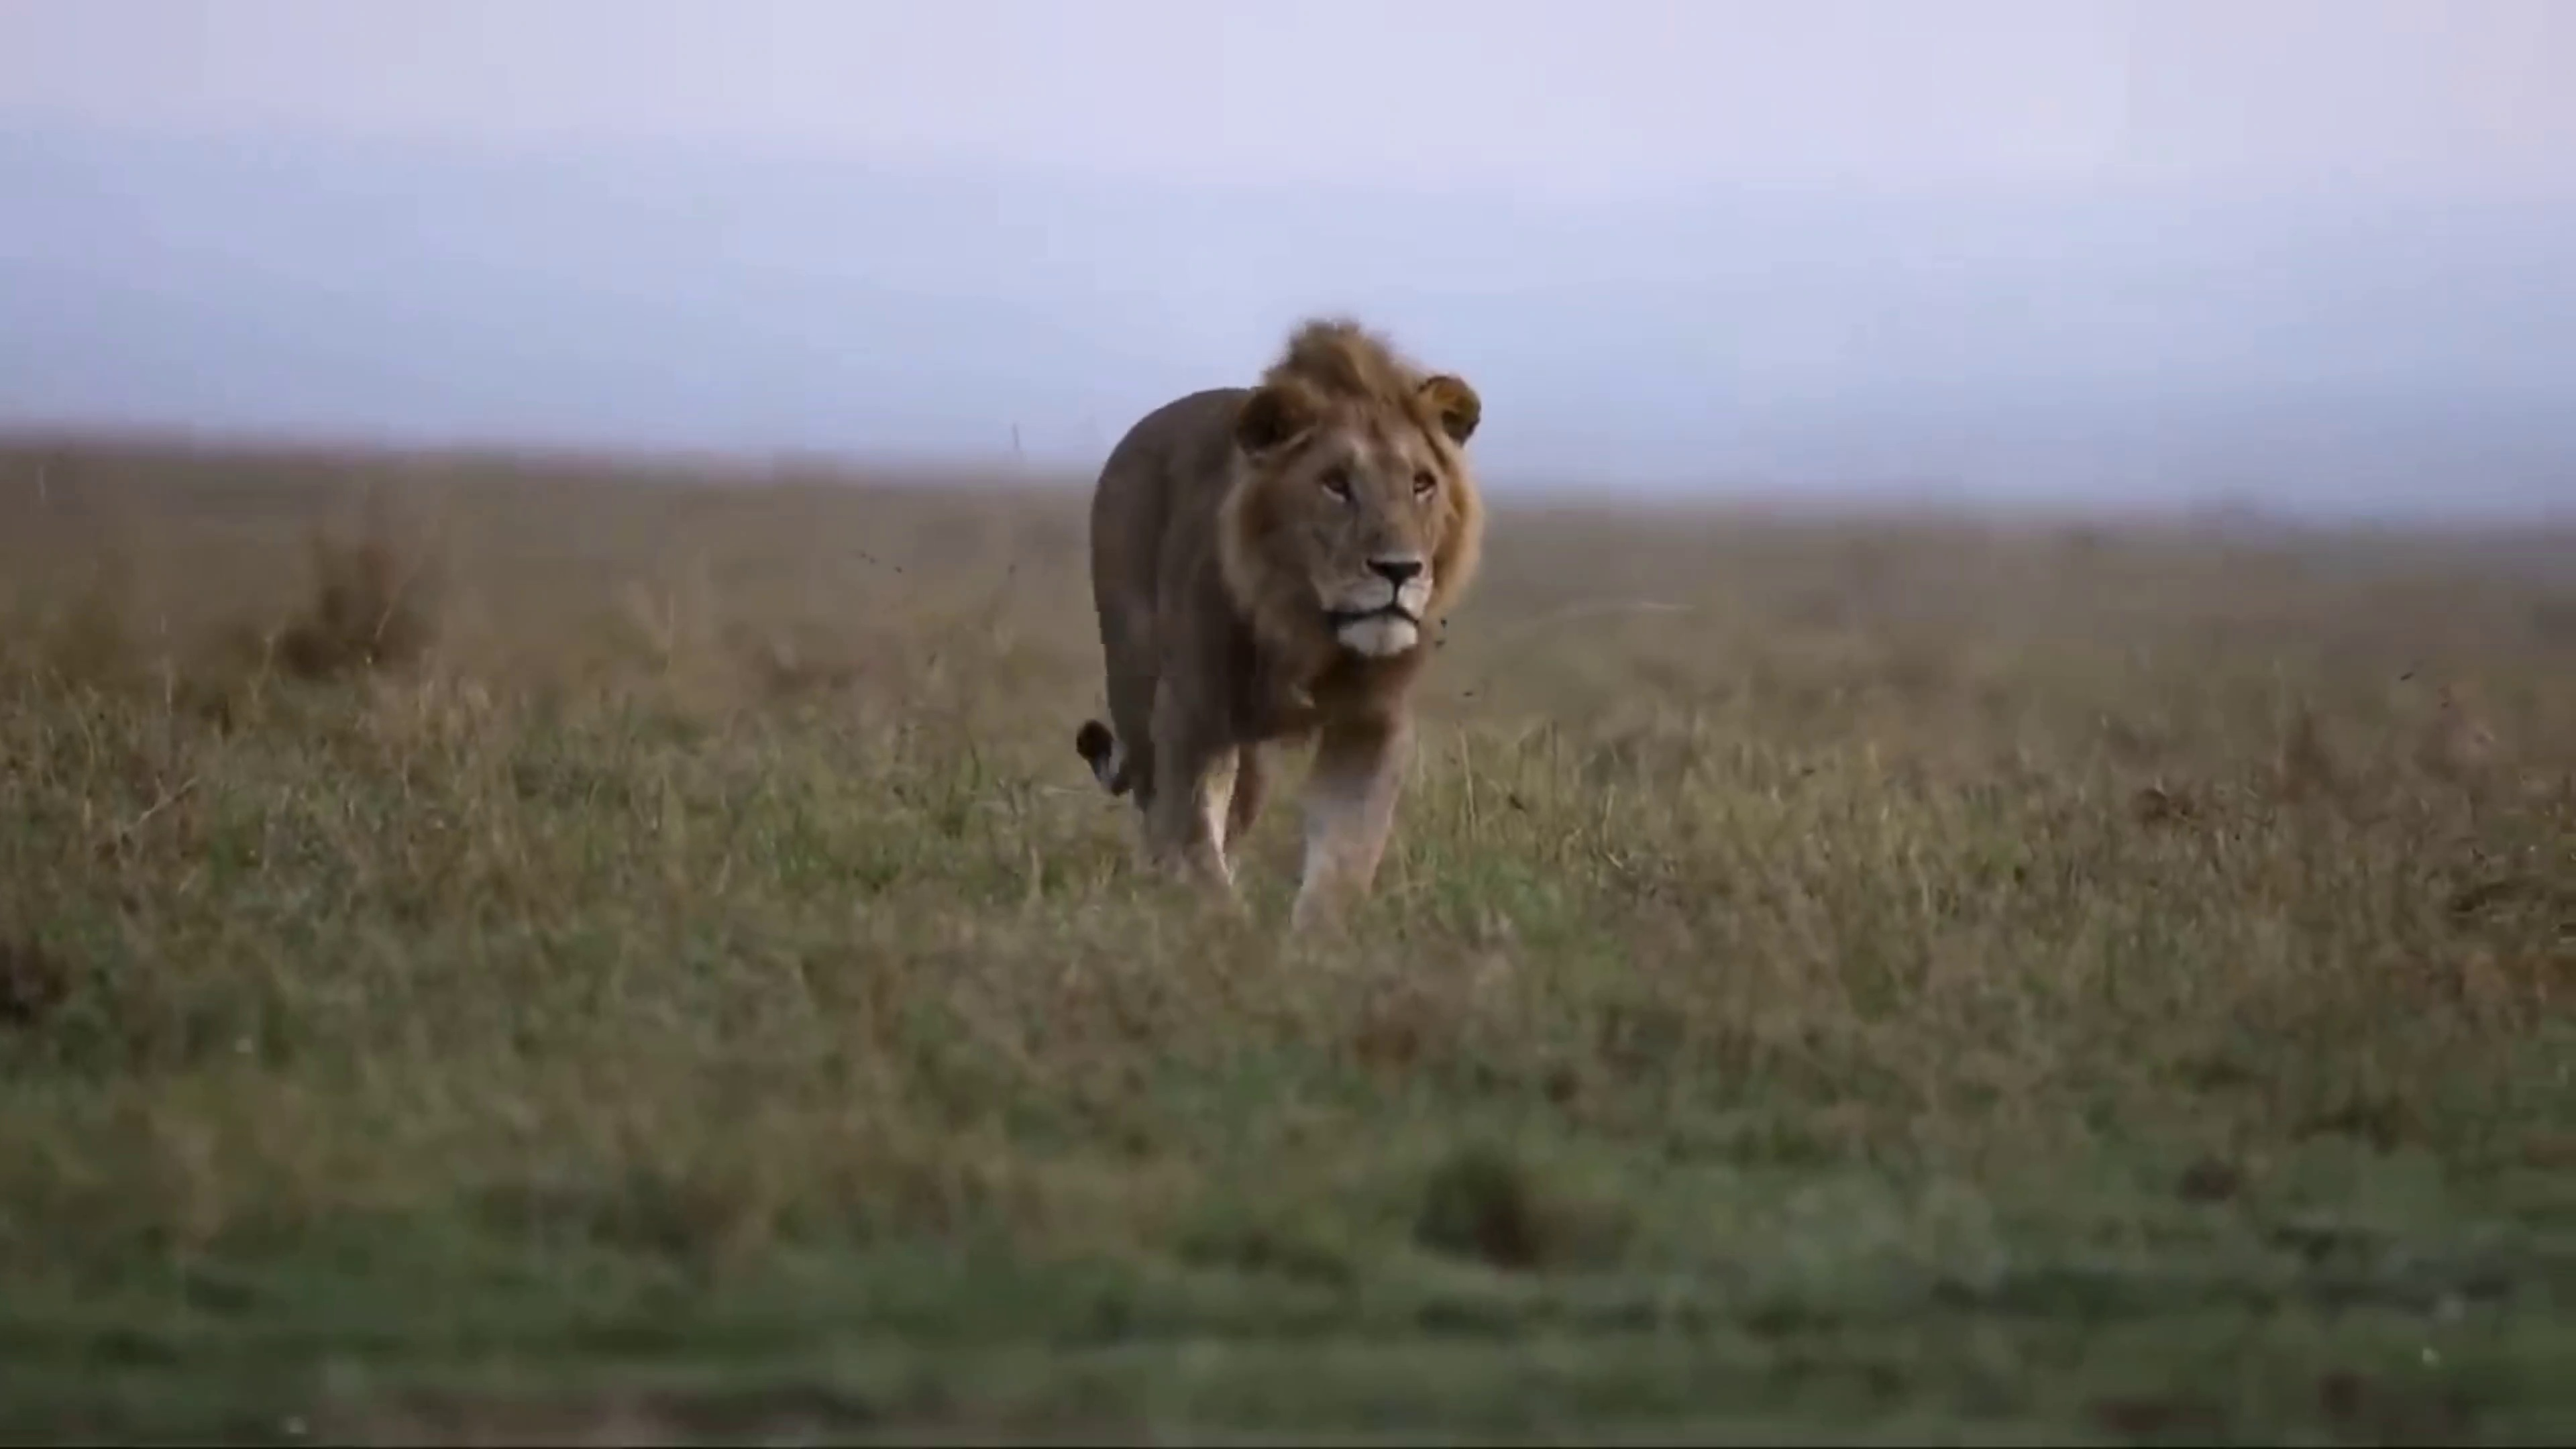Lion: (1076, 326, 1486, 936)
